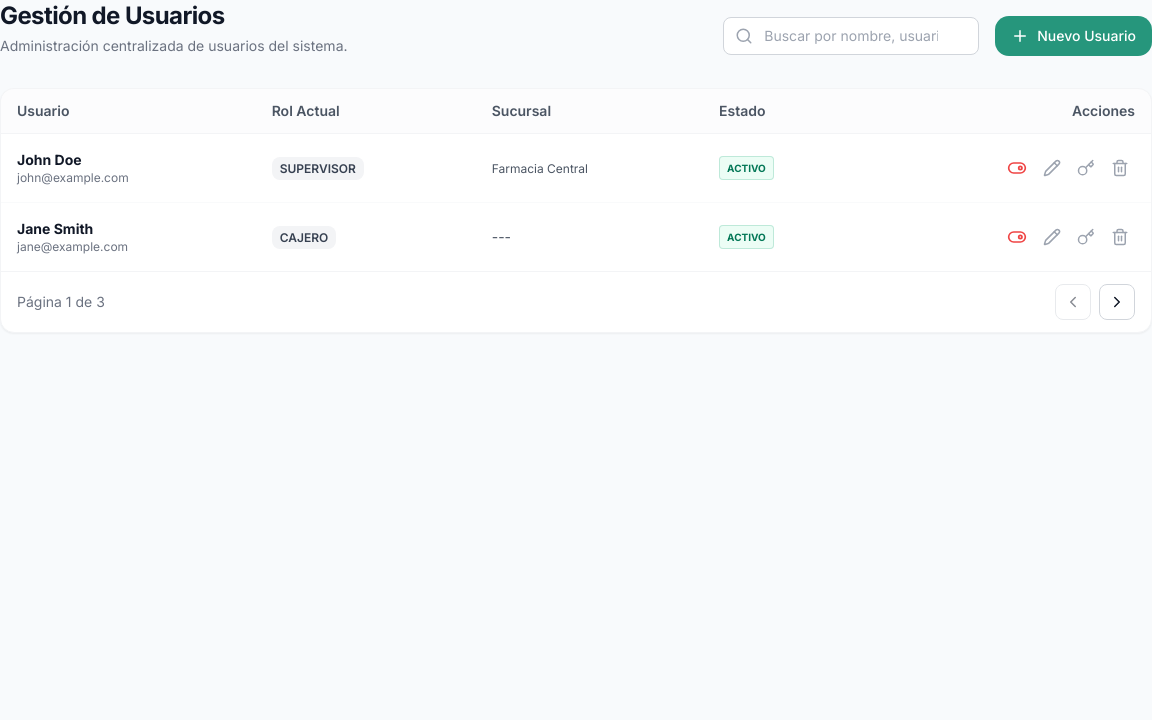
Scenario: UsuariosListClient › modal open/close › opens create modal when Nuevo Usuario button is clicked
Click the button "Nuevo Usuario" at (1074, 36), box 995,16 -> 1151,56
(page scrolled)
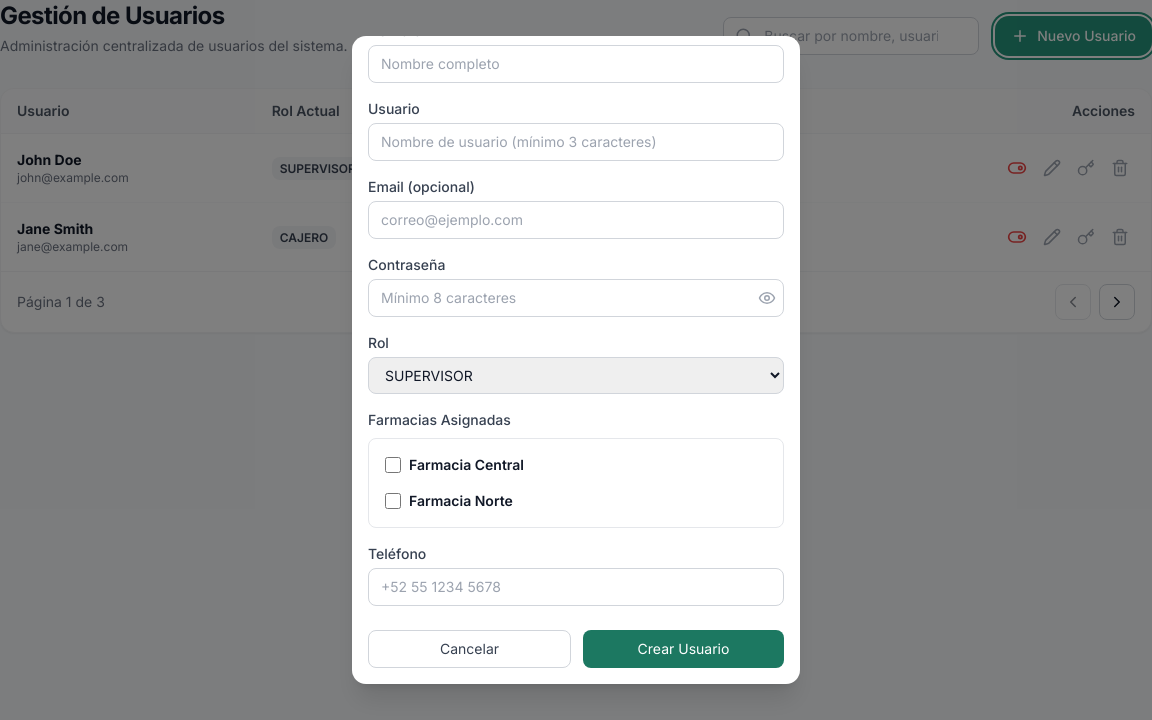
Check: the button "Crear Usuario" is shown, box 583,630 -> 784,668
